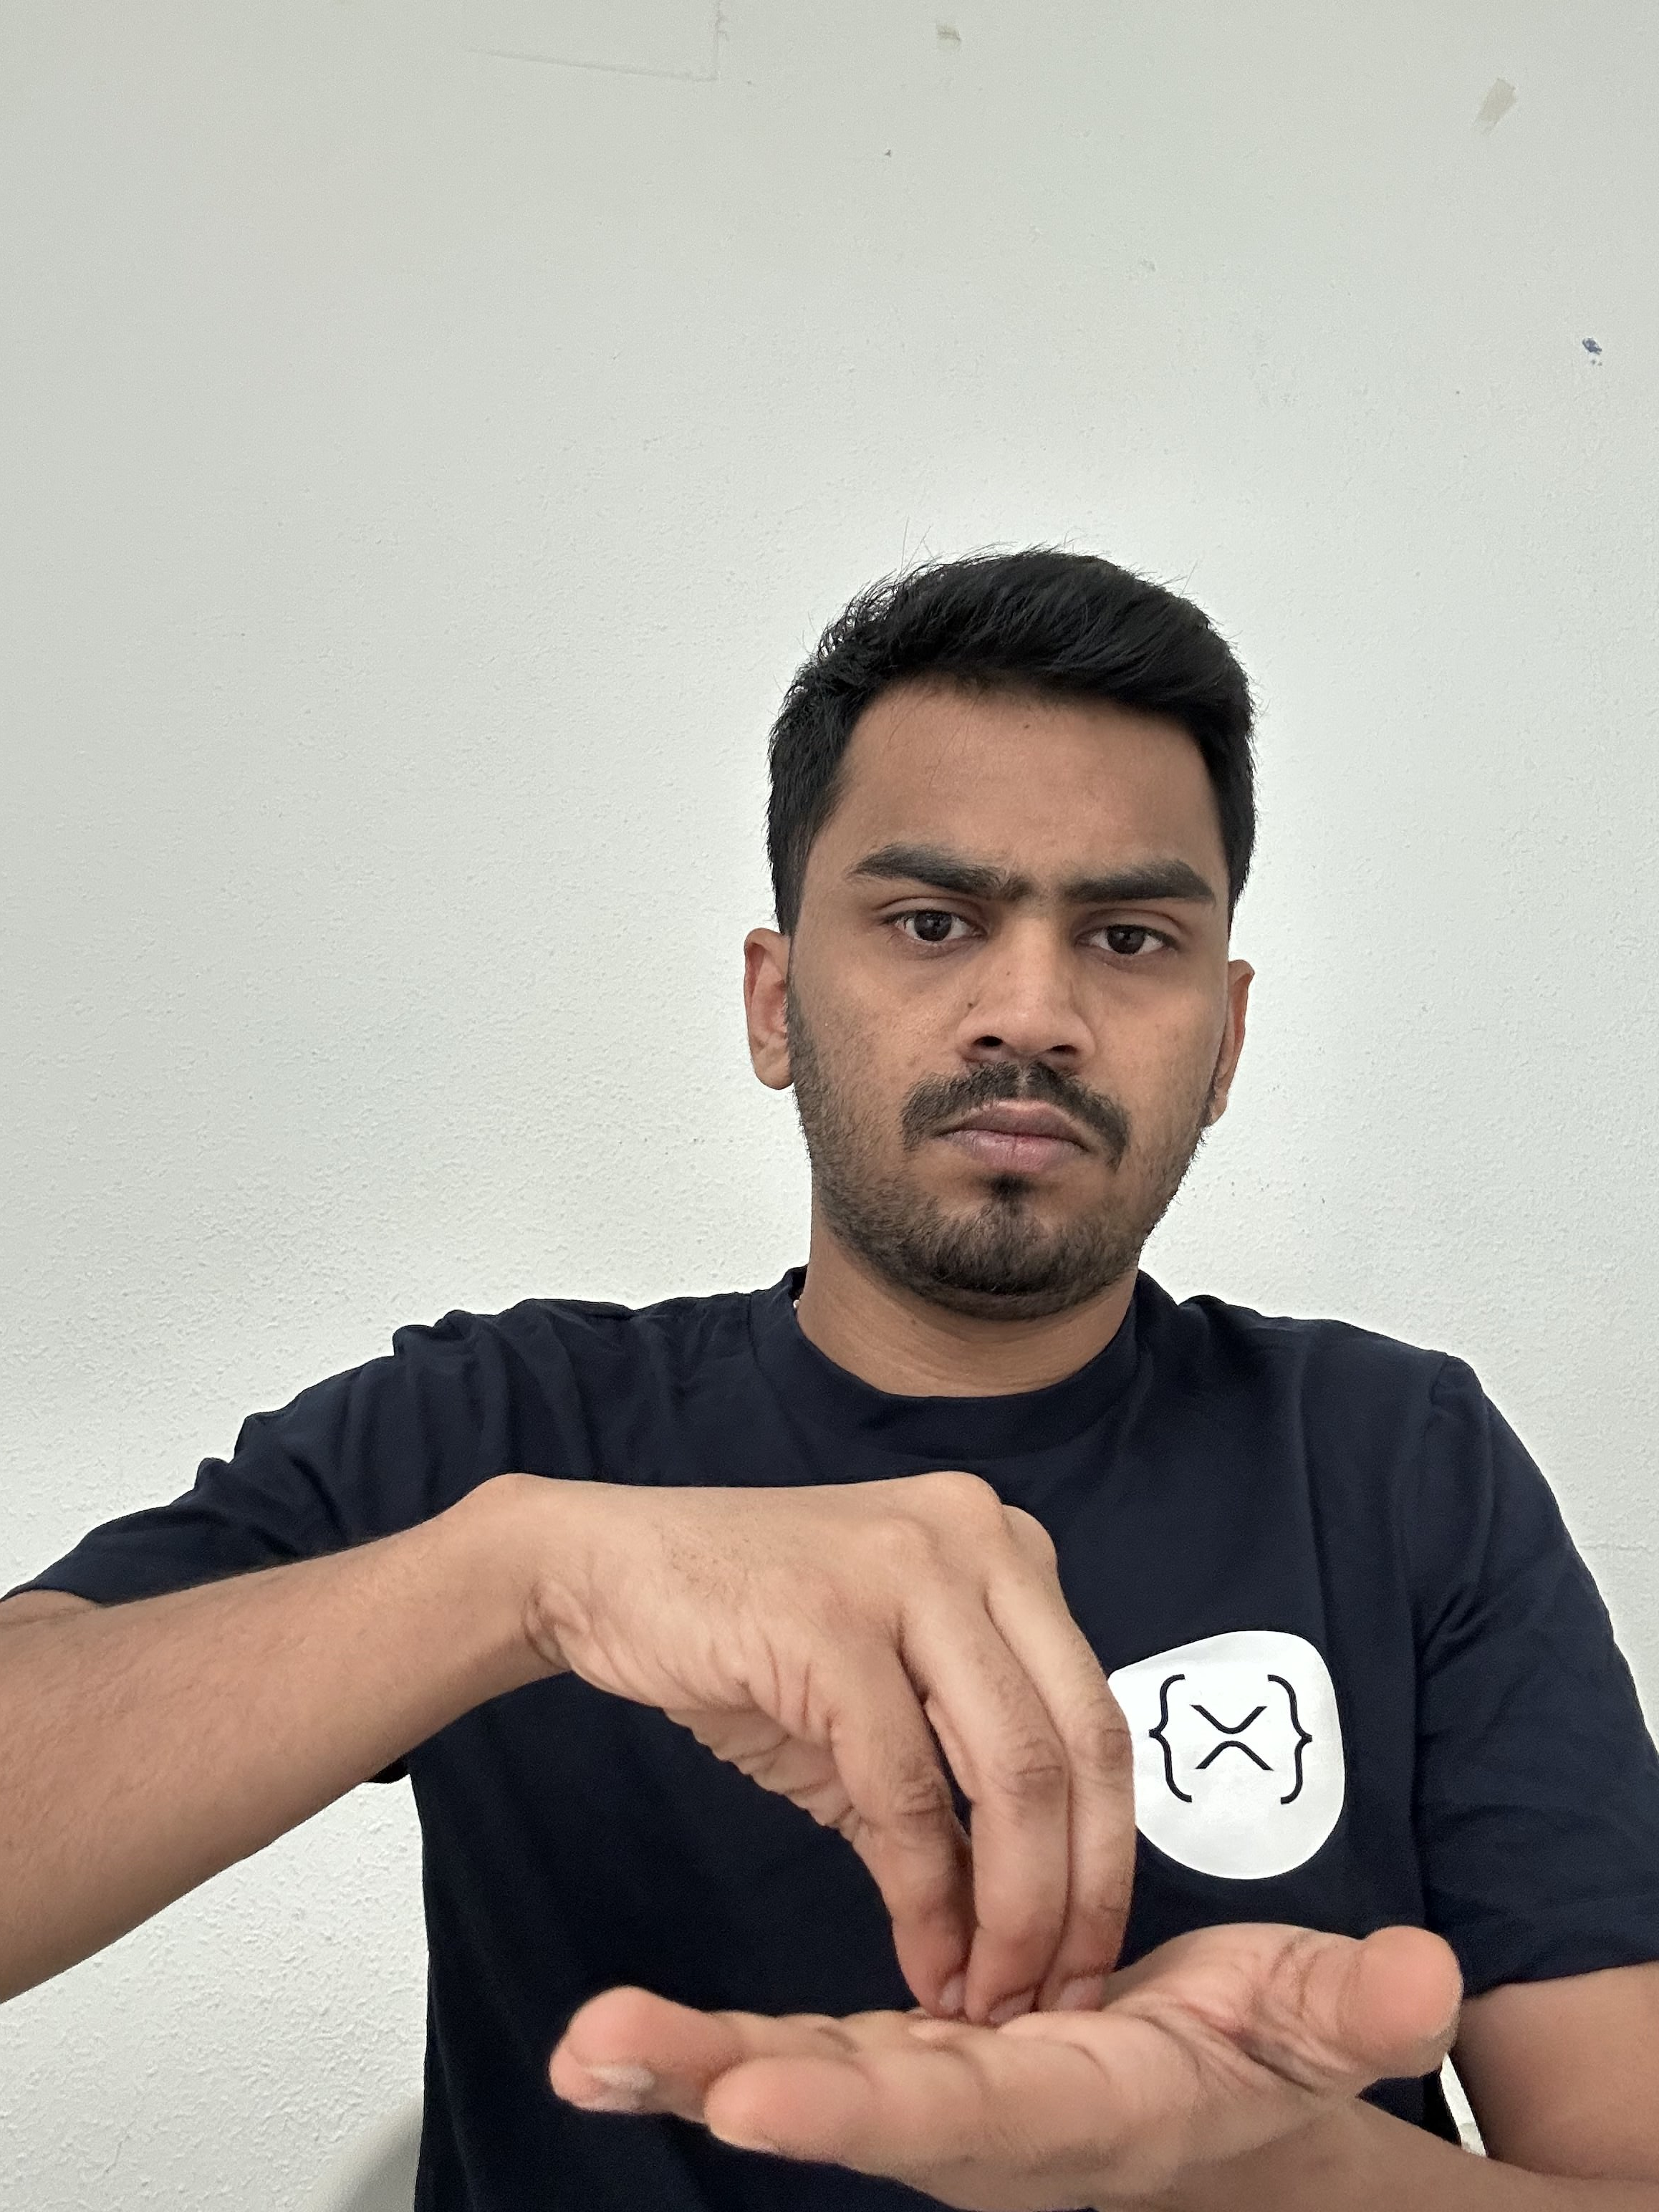learning: (5, 538, 1652, 2203)
